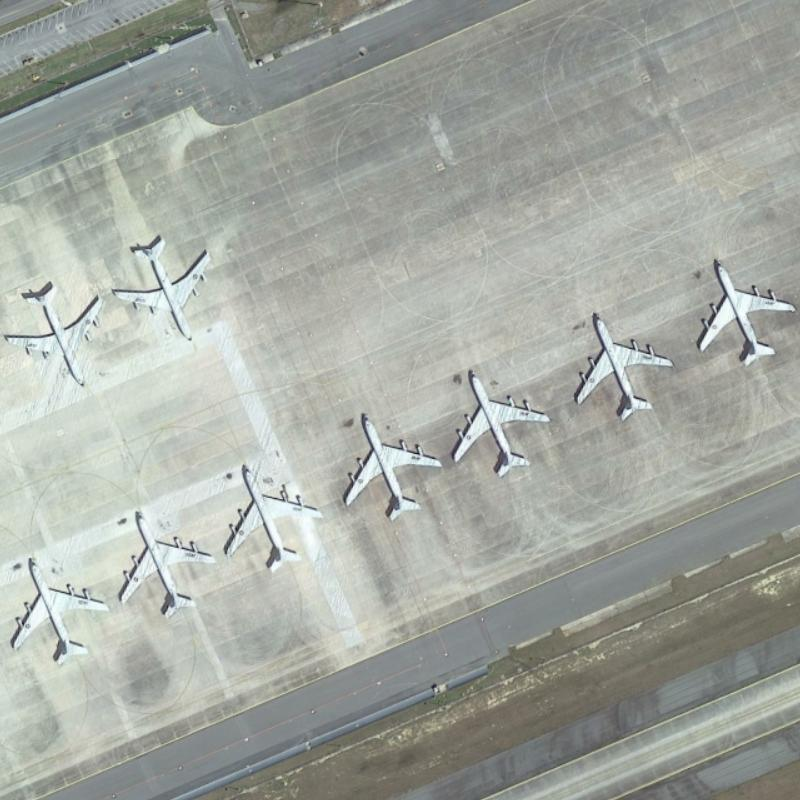A11: (571, 307, 678, 423), (337, 407, 443, 523), (7, 552, 112, 669), (691, 255, 798, 366), (449, 363, 553, 477), (221, 460, 324, 574), (107, 235, 215, 343), (1, 276, 105, 388), (115, 508, 216, 617)
